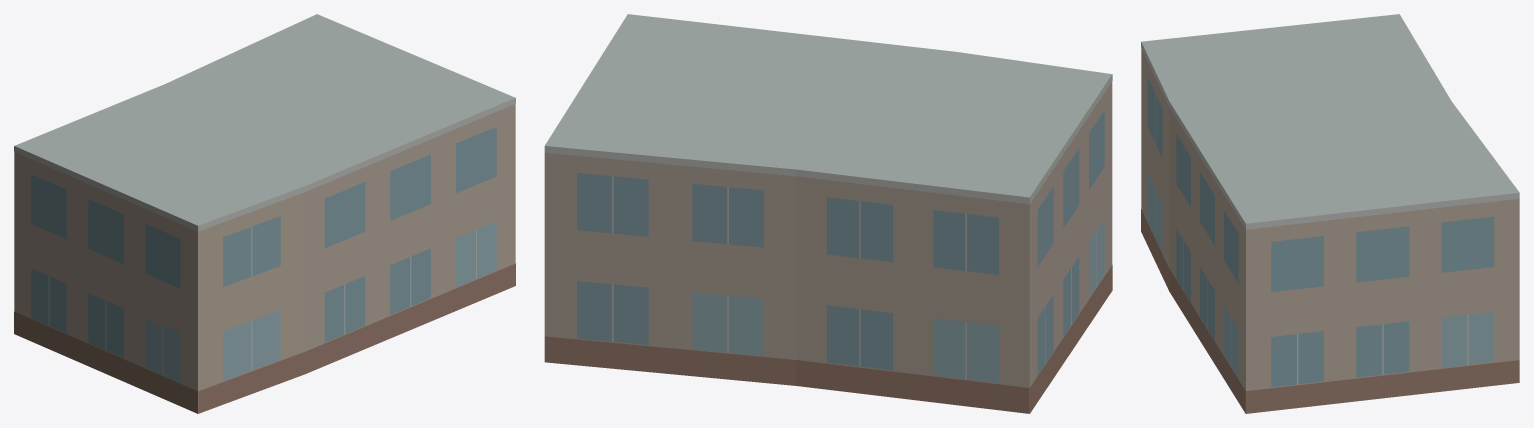
File: survey-upis-32630096.glb
3 renders of one model, left to right at view 1: azimuth 30°, elevation 25°; view 2: azimuth 150°, elevation 25°; view 3: azimuth 270°, elevation 25°, orthographic. The views are drawn at different scales.
Visible parts, largest first — view 1: survey-upis-32630096.tmp; view 2: survey-upis-32630096.tmp; view 3: survey-upis-32630096.tmp.
Part boxes in pixels (<box>): survey-upis-32630096.tmp: <box>14,14,515,413</box>; survey-upis-32630096.tmp: <box>544,14,1112,413</box>; survey-upis-32630096.tmp: <box>1141,14,1519,413</box>.
Bounding box in the file's own units: 18.36 × 7.75 × 14.
